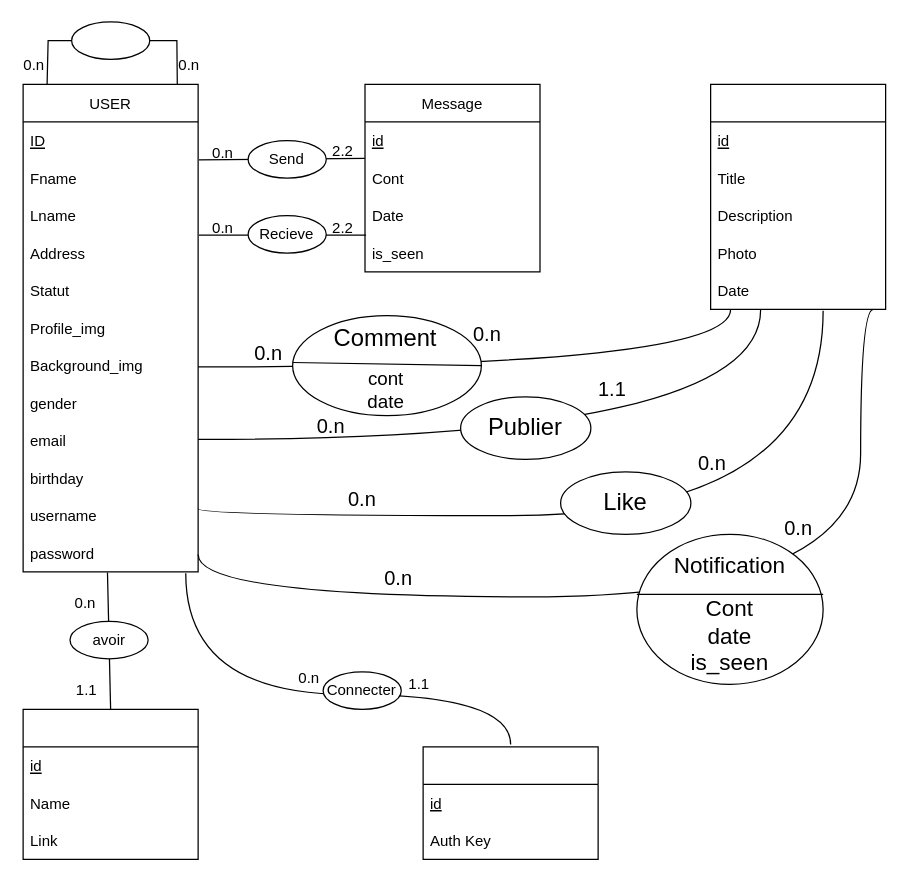
This 908x881 diagram has some shape labels left out. The shapes that lost their labels are listed below. From the top down, each one's box as (x1, y1, x2, y2) in pixels, then its label:
(70, 21, 150, 59): Follow
(709, 83, 886, 309): Post
(22, 708, 198, 859): Social Links
(422, 746, 598, 859): Last Auth
